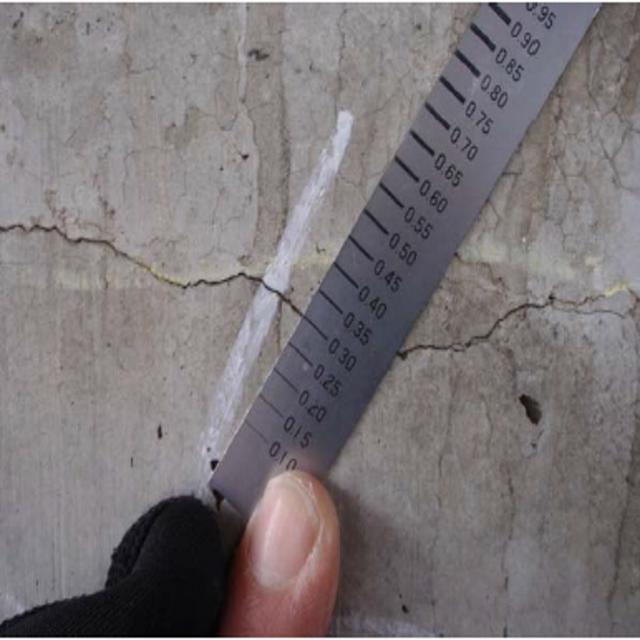crack: (3, 206, 310, 326), (400, 276, 626, 387)
